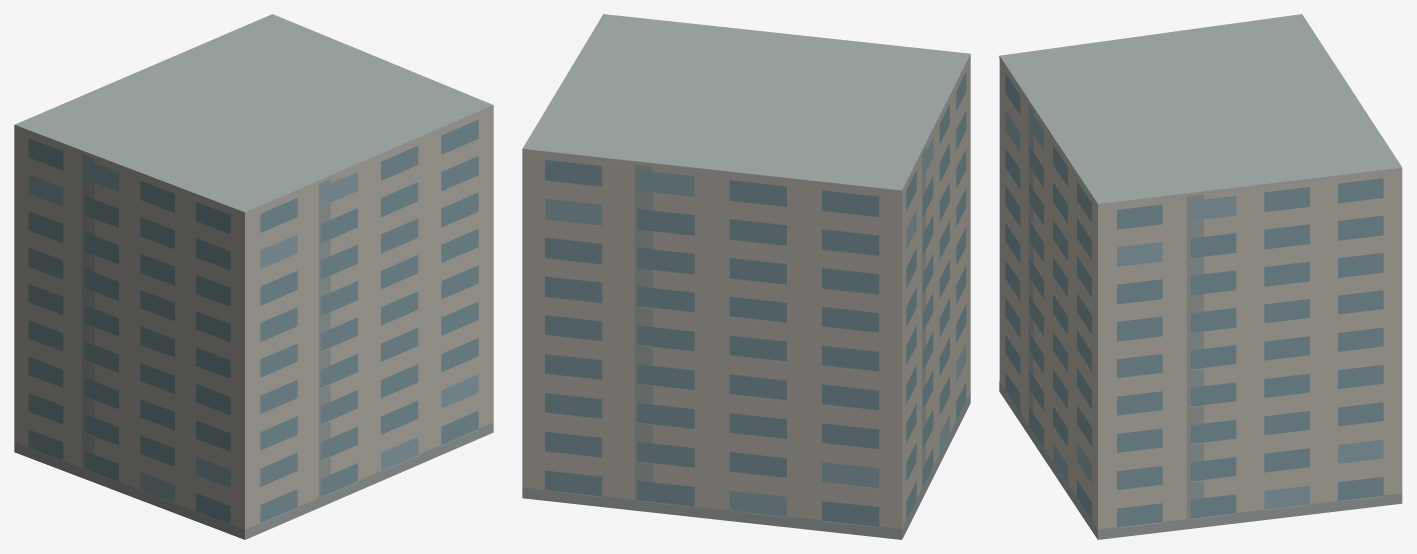
The model's file is residential-ab239144-c344-4c9b-a72b-cf78d91a259b.glb.
The picture shows the model from 3 angles, left to right: view 1: azimuth 30°, elevation 25°; view 2: azimuth 150°, elevation 25°; view 3: azimuth 270°, elevation 25°; orthographic projection. The views are drawn at different scales.
Parts seen in each view (by area): view 1: residential-ab239144-c344-4c9b-a72b-cf78d91a259b.tmp; view 2: residential-ab239144-c344-4c9b-a72b-cf78d91a259b.tmp; view 3: residential-ab239144-c344-4c9b-a72b-cf78d91a259b.tmp.
Boxes of the visible parts, box(x1,y1,x2,y2) form: residential-ab239144-c344-4c9b-a72b-cf78d91a259b.tmp: box(14, 14, 493, 539); residential-ab239144-c344-4c9b-a72b-cf78d91a259b.tmp: box(522, 14, 970, 539); residential-ab239144-c344-4c9b-a72b-cf78d91a259b.tmp: box(999, 14, 1402, 539).
Size of the model in its own units: 30.32 by 25 by 27.18.
